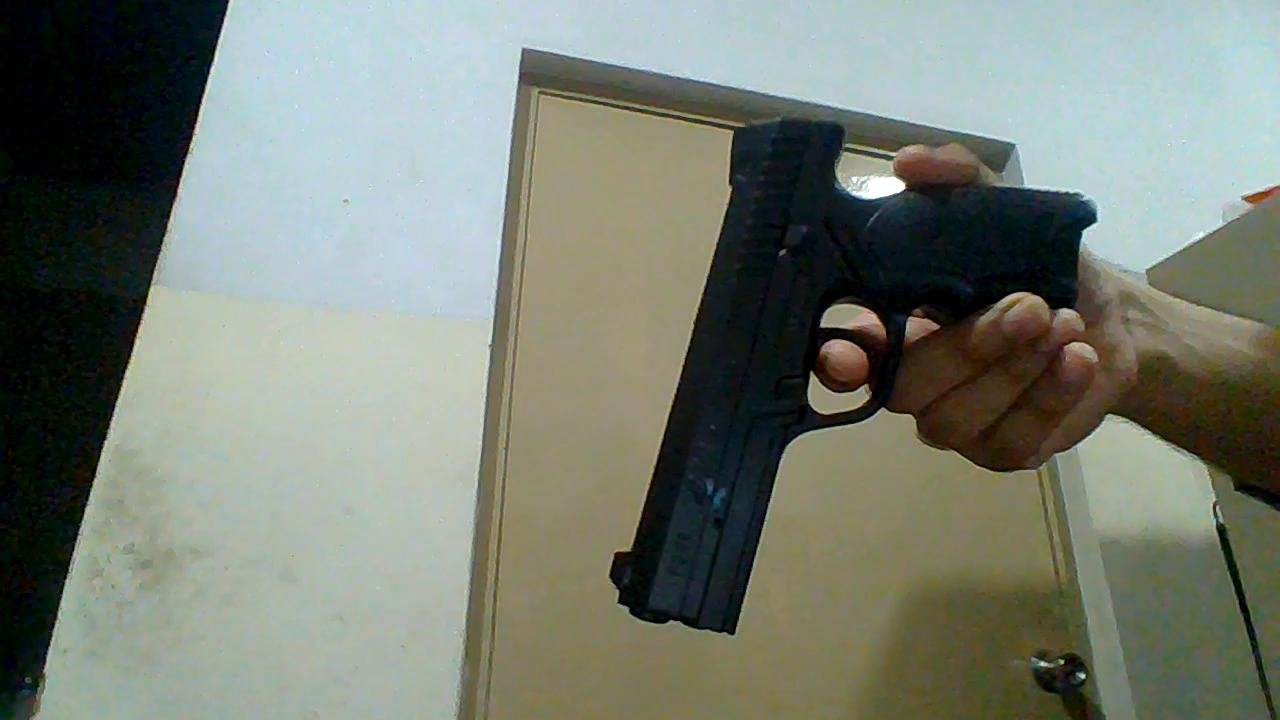weapon: (608, 116, 1102, 639)
